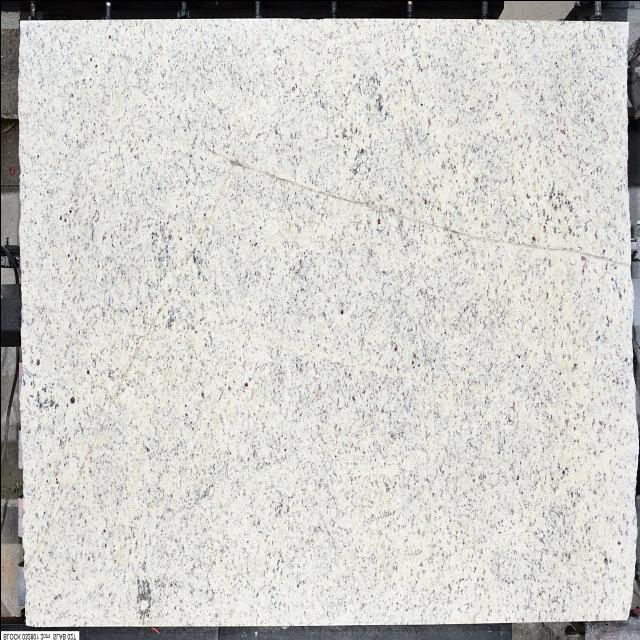chapa: (19, 18, 636, 625)
